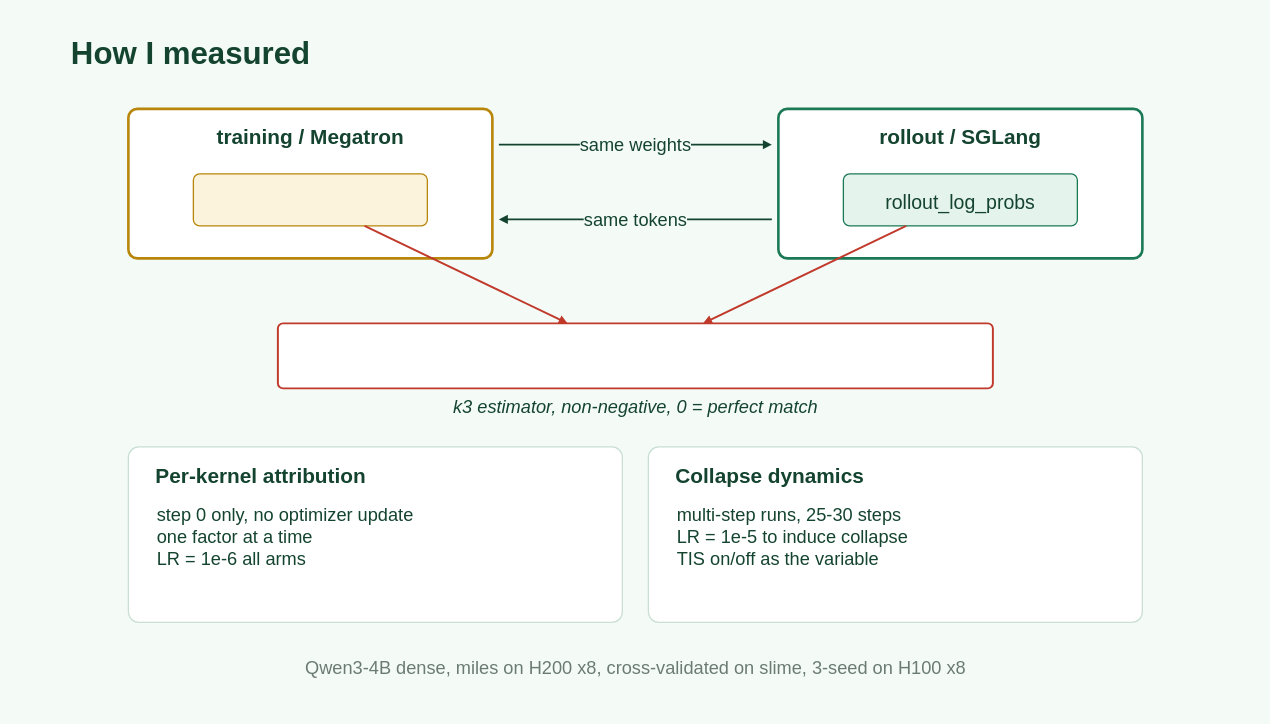
Image size: 1270x724. Some labels were removed from this diagram. Each missing label, with the centre of its shape:
"mis_kl = E[ exp(r) - r - 1 ], r = log(pi_train / pi_rollout)" belongs at [635,355].
"train_log_probs" belongs at [310,199].
